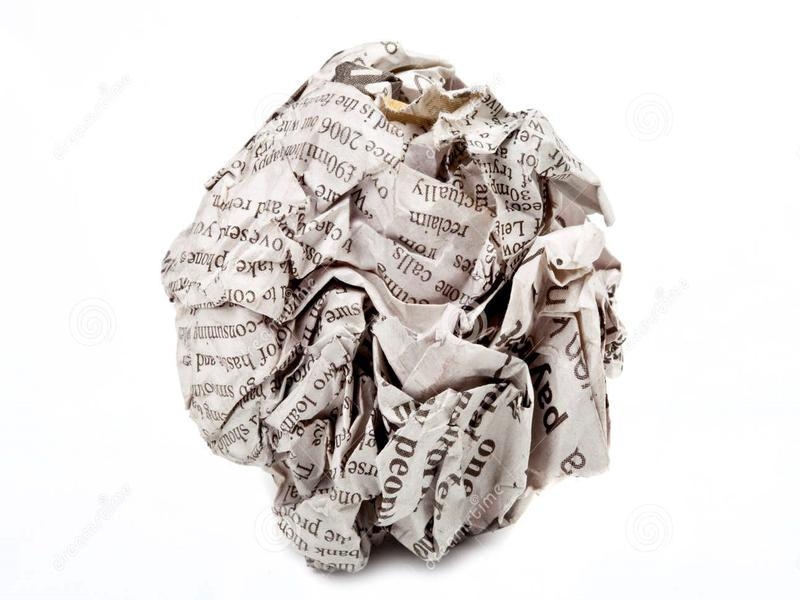paper: (144, 39, 647, 582)
